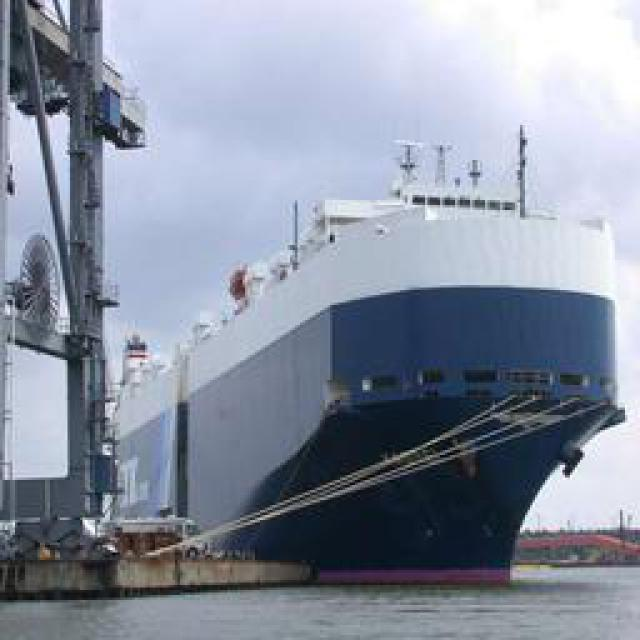Ship: (1, 114, 629, 583)
